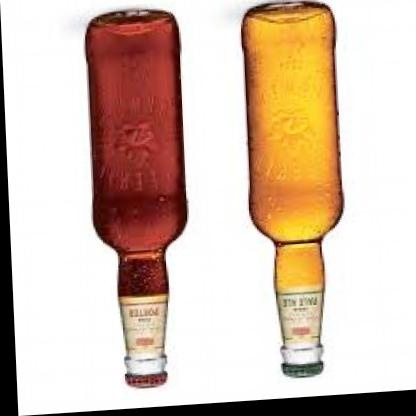trash: (86, 10, 186, 386), (242, 2, 342, 376)
